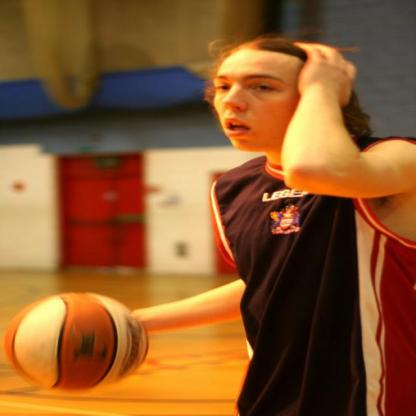basketball: (9, 292, 150, 395)
